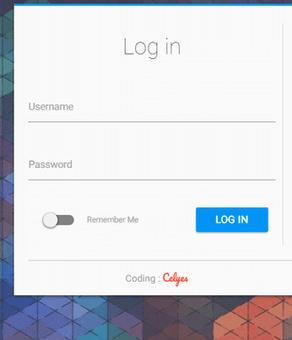button: (194, 206, 270, 235)
field_line: (26, 99, 279, 125), (26, 157, 279, 183)
